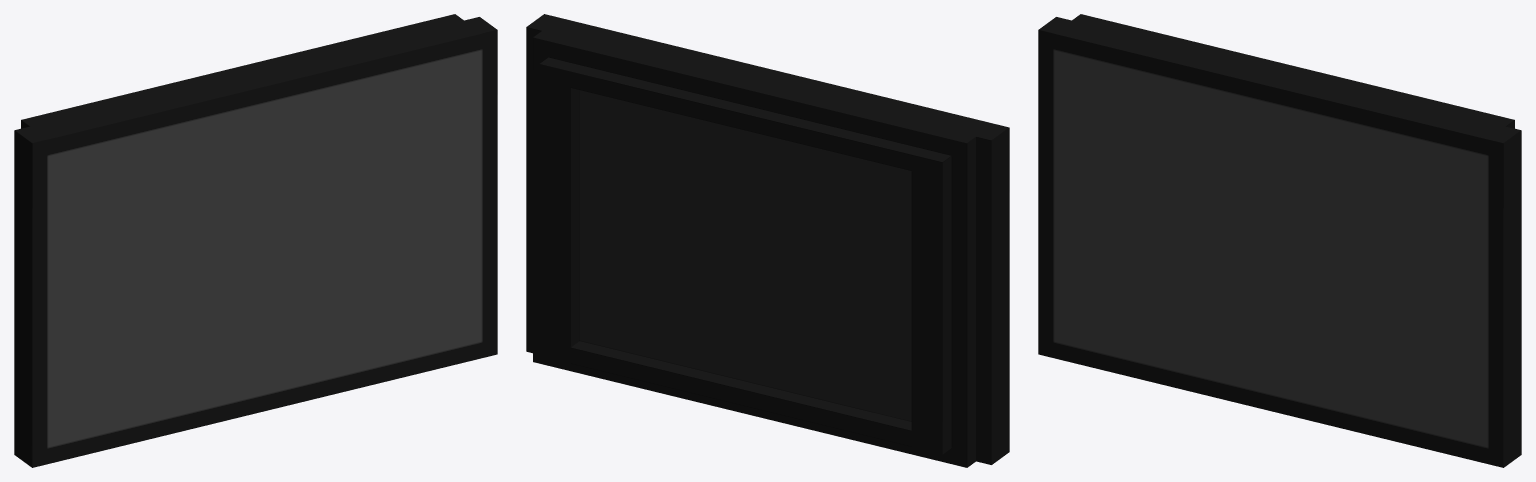
3 renders of one model, left to right at view 1: azimuth 30°, elevation 25°; view 2: azimuth 150°, elevation 25°; view 3: azimuth 330°, elevation 25°, orthographic.
Visible parts, largest first — view 1: TV_20.001; view 2: TV_20.001; view 3: TV_20.001.
Boxes of the visible parts, box(x1,y1,x2,y2) form: TV_20.001: box(14, 14, 497, 467); TV_20.001: box(526, 14, 1009, 467); TV_20.001: box(1038, 14, 1521, 467).
Bounding box in the file's own units: 3 × 2 × 0.4.
Materials: 1 (1 with a texture image).
